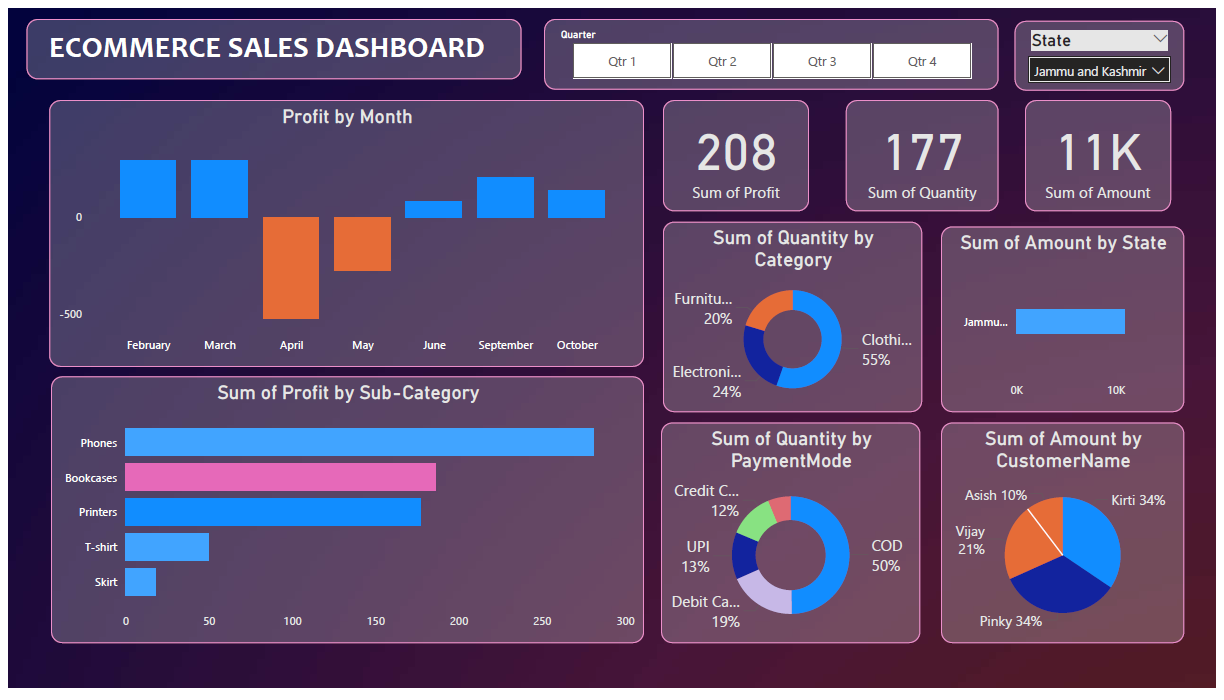

The dashboard page shown, as its layout file describes it:
{"tool":"powerbi","page":{"name":"Page 1","canvas":[1280,720],"ordinal":0},"visuals":[{"type":"textbox","box":[19.1,11.1,524.9,63.6],"z":0},{"type":"columnChart","title":"Profit by Month","fields":{"Y":["Details.Profit"],"Category":["Orders.Order Date.Variation.Date Hierarchy.Month"]},"box":[42.9,97,631.5,283.1],"z":1000},{"type":"barChart","fields":{"Category":["Details.Sub-Category"],"Y":["Details.Profit"]},"box":[44.5,389.7,629.9,283.1],"z":2000},{"type":"donutChart","fields":{"Category":["Details.Category"],"Y":["Details.Quantity"]},"box":[693.5,225.9,275.2,202],"z":3000},{"type":"donutChart","fields":{"Y":["Details.Quantity"],"Category":["Details.PaymentMode"]},"box":[691.9,439,275.2,233.8],"z":4000},{"type":"card","fields":{"Values":["Details.Profit"]},"box":[693.5,97,155.9,117.7],"z":5000},{"type":"card","fields":{"Values":["Details.Quantity"]},"box":[887.6,97,162.2,117.7],"z":6000},{"type":"card","fields":{"Values":["Details.Amount"]},"box":[1078.4,97,154.3,117.7],"z":7000},{"type":"barChart","fields":{"Y":["Details.Amount"],"Category":["Orders.State"]},"box":[989.4,230.6,257.7,197.2],"z":8000},{"type":"pieChart","fields":{"Category":["Orders.CustomerName"],"Y":["Details.Amount"]},"box":[989,439,258,234],"z":9000},{"type":"slicer","fields":{"Values":["Orders.Order Date.Variation.Date Hierarchy.Quarter"]},"box":[567.8,11.1,482,74.8],"z":10000},{"type":"slicer","fields":{"Values":["Orders.State"]},"box":[1067.3,12.7,179.7,74.8],"z":11000}]}

Visuals, with their boxes in screenshot pixels (x1, y1, x2, y2), scaled from the page's 1280x720 canvas onto the 1224x700 screenshot:
textbox: {"left": 18, "top": 11, "right": 520, "bottom": 73}
"Profit by Month" columnChart: {"left": 41, "top": 94, "right": 645, "bottom": 370}
barChart - Details.Sub-Category x Details.Profit: {"left": 43, "top": 379, "right": 645, "bottom": 654}
donutChart - Details.Category x Details.Quantity: {"left": 663, "top": 220, "right": 926, "bottom": 416}
donutChart - Details.Quantity x Details.PaymentMode: {"left": 662, "top": 427, "right": 925, "bottom": 654}
card - Details.Profit: {"left": 663, "top": 94, "right": 812, "bottom": 209}
card - Details.Quantity: {"left": 849, "top": 94, "right": 1004, "bottom": 209}
card - Details.Amount: {"left": 1031, "top": 94, "right": 1179, "bottom": 209}
barChart - Details.Amount x Orders.State: {"left": 946, "top": 224, "right": 1193, "bottom": 416}
pieChart - Orders.CustomerName x Details.Amount: {"left": 946, "top": 427, "right": 1192, "bottom": 654}
slicer - Orders.Order Date.Variation.Date Hierarchy.Quarter: {"left": 543, "top": 11, "right": 1004, "bottom": 84}
slicer - Orders.State: {"left": 1021, "top": 12, "right": 1192, "bottom": 85}
